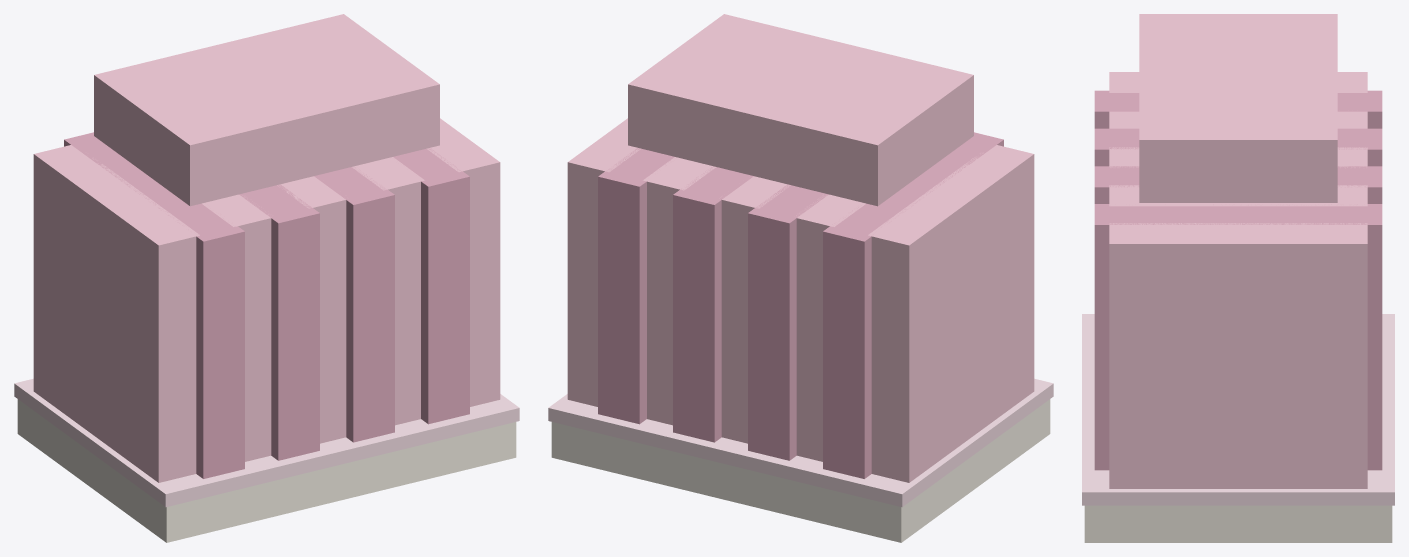
The model's file is hanbok_saia.glb.
3 views of the same model, side by side, from view 1: azimuth 30°, elevation 25°; view 2: azimuth 150°, elevation 25°; view 3: azimuth 270°, elevation 25° (orthographic). The views are drawn at different scales.
Visible parts, largest first — view 1: hanbok_saia; view 2: hanbok_saia; view 3: hanbok_saia.
Boxes of the visible parts, x1=… form: hanbok_saia: x1=14, y1=14, x2=519, y2=542; hanbok_saia: x1=548, y1=14, x2=1053, y2=542; hanbok_saia: x1=1082, y1=14, x2=1394, y2=542.
Bounding box in the file's own units: 0.85 × 0.84 × 0.63.
